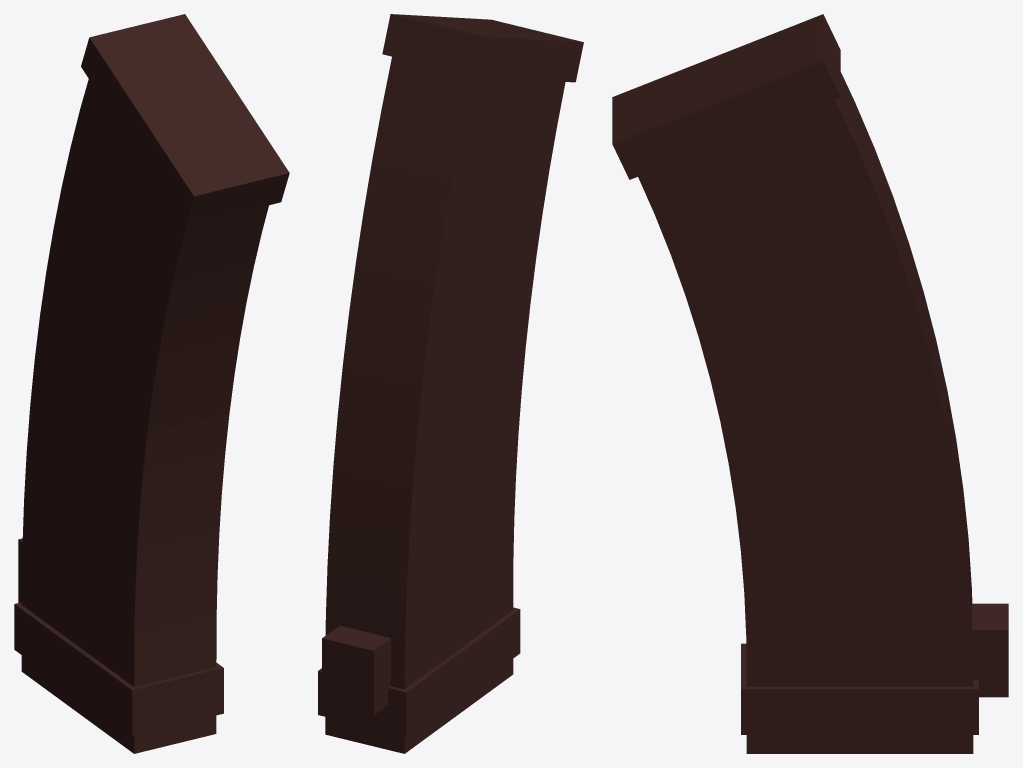
Rendered from ak_mag_30.glb.
The picture shows the model from 3 angles, left to right: view 1: azimuth 30°, elevation 25°; view 2: azimuth 150°, elevation 25°; view 3: azimuth 270°, elevation 25°; orthographic projection. The views are drawn at different scales.
Visible parts, largest first — view 1: mag_body, mag_floor, mag_collar; view 2: mag_body, mag_floor, mag_collar, mag_catch_lug; view 3: mag_body, mag_floor, mag_collar, mag_catch_lug.
Boxes of the visible parts, bbox=[...] form: mag_body: bbox=[21, 79, 268, 753]; mag_floor: bbox=[81, 14, 289, 225]; mag_collar: bbox=[14, 602, 223, 735]; mag_body: bbox=[325, 56, 565, 753]; mag_floor: bbox=[382, 14, 583, 82]; mag_collar: bbox=[318, 607, 520, 736]; mag_catch_lug: bbox=[322, 625, 391, 715]; mag_body: bbox=[638, 72, 973, 753]; mag_floor: bbox=[612, 14, 840, 179]; mag_collar: bbox=[741, 643, 978, 734]; mag_catch_lug: bbox=[972, 603, 1008, 697].
Bounding box in the file's own units: 0.0285 × 0.1963 × 0.1013.
